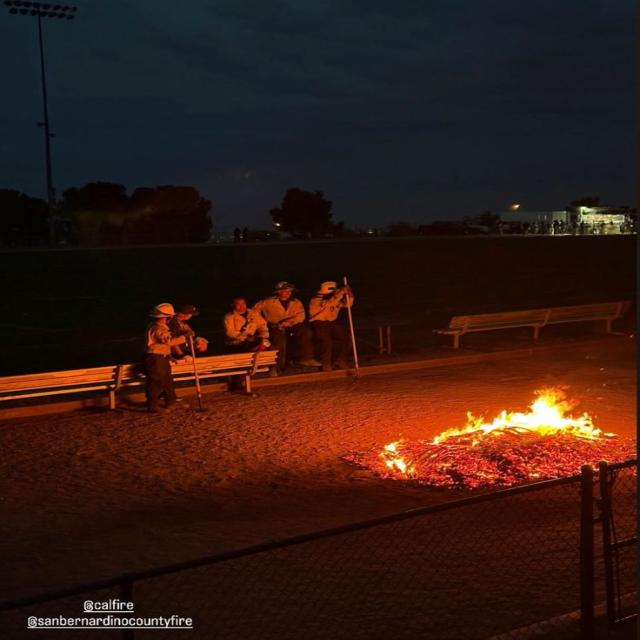fire: (481, 394, 603, 436)
